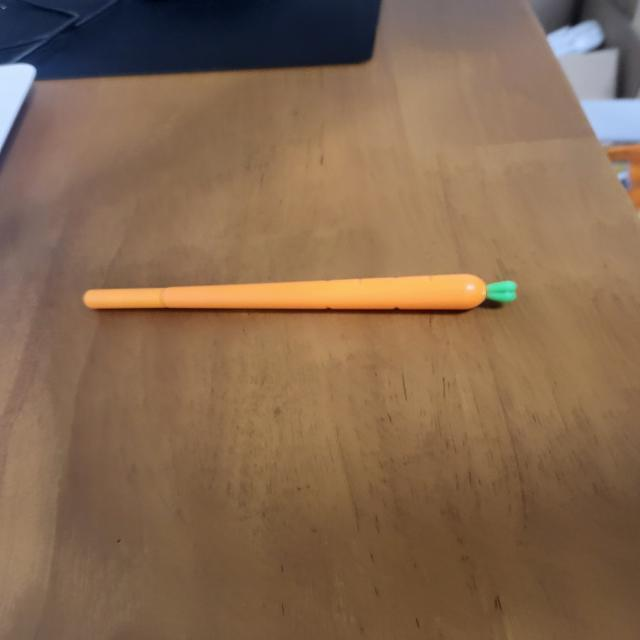carrot: (80, 269, 490, 315)
